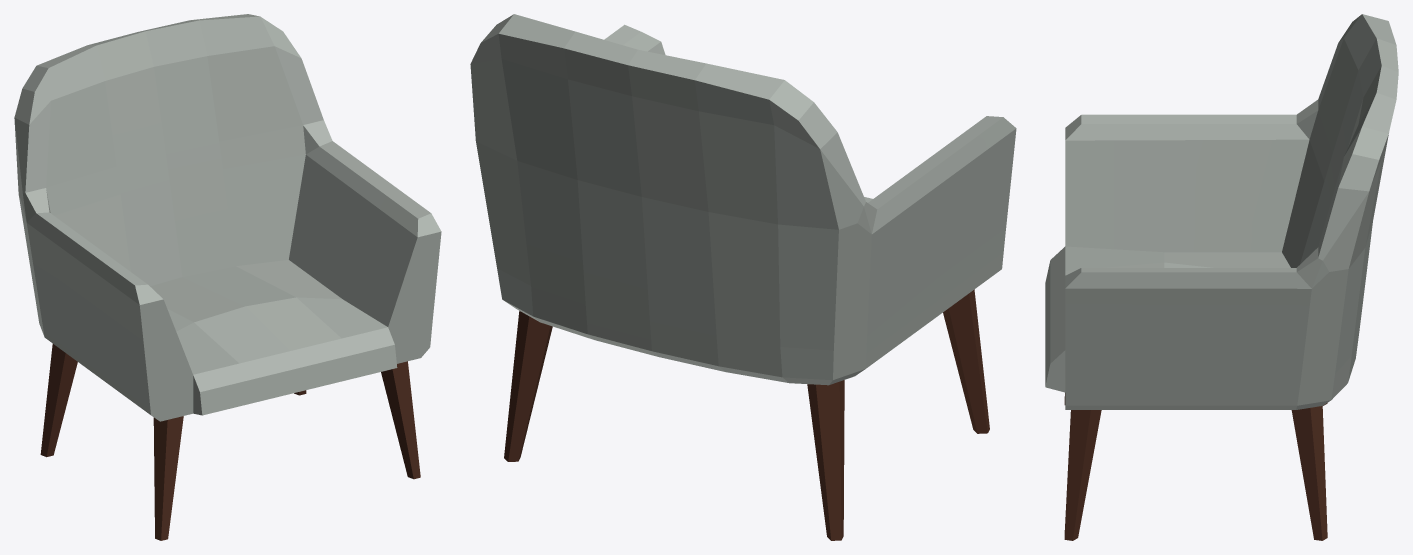
The model's file is Int_Armchair01_1.fbx.
The picture shows the model from 3 angles, left to right: view 1: azimuth 30°, elevation 25°; view 2: azimuth 150°, elevation 25°; view 3: azimuth 270°, elevation 25°; orthographic projection. The views are drawn at different scales.
Visible parts, largest first — view 1: Int_Armchair01_1; view 2: Int_Armchair01_1; view 3: Int_Armchair01_1.
Part boxes in pixels (x1,y1,x2,y2): Int_Armchair01_1: [14, 14, 441, 540]; Int_Armchair01_1: [470, 14, 1016, 540]; Int_Armchair01_1: [1045, 14, 1398, 540].
Size of what is drawn, in the model's own units: 113 by 105 by 133.
